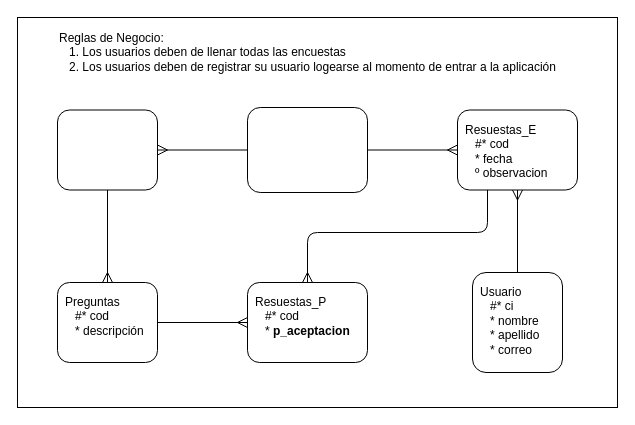
The diagram is 635 pixels wide and 425 high, and some of its shapes have lost their labels. Here are the shapes that lost their labels. From the top down, the centre of each, then its label:
(x=107, y=149): Categoria #* cod * nombre
(x=307, y=149): Encuestas #* cod * nombre * descricion
